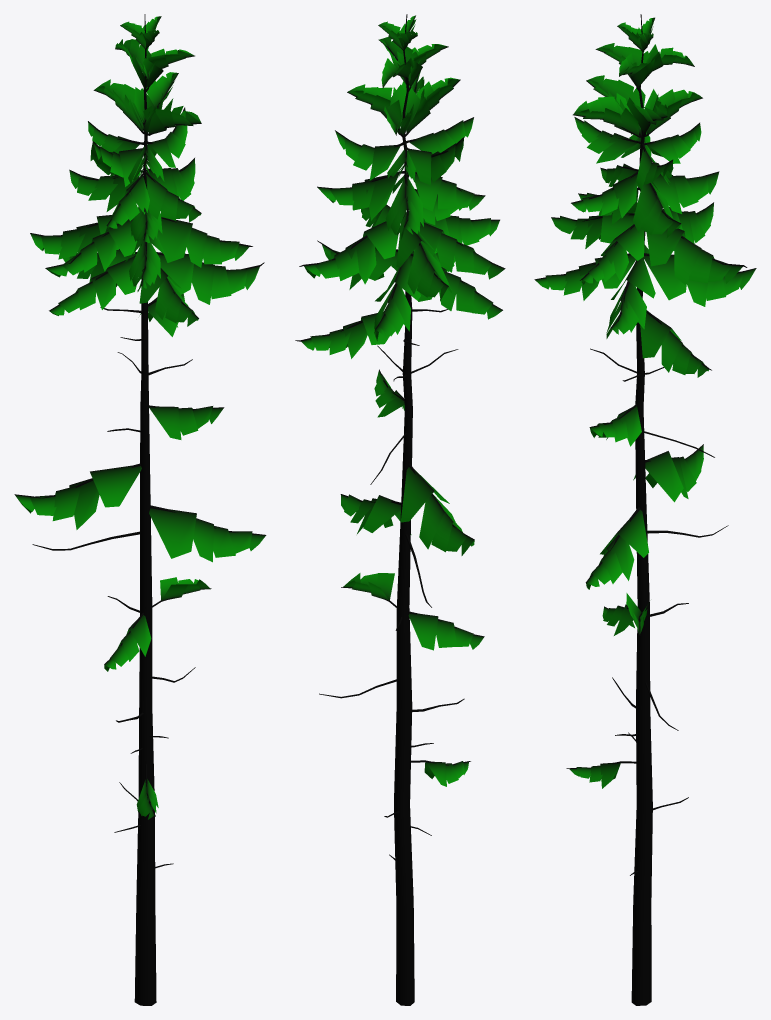
File: IL3DN_Tree_Pine_03_OneMesh.FBX
3 renders of one model, left to right at view 1: azimuth 30°, elevation 25°; view 2: azimuth 150°, elevation 25°; view 3: azimuth 270°, elevation 25°, orthographic.
Visible parts, largest first — view 1: IL3DN_Tree_Pine_03_LOD0; view 2: IL3DN_Tree_Pine_03_LOD0; view 3: IL3DN_Tree_Pine_03_LOD0.
Boxes of the visible parts, left/top/right/bottom form: IL3DN_Tree_Pine_03_LOD0: left=14, top=14, right=266, bottom=1005; IL3DN_Tree_Pine_03_LOD0: left=295, top=14, right=505, bottom=1005; IL3DN_Tree_Pine_03_LOD0: left=534, top=14, right=756, bottom=1005.
Size of what is drawn, in the model's own units: 155 by 719 by 147.
